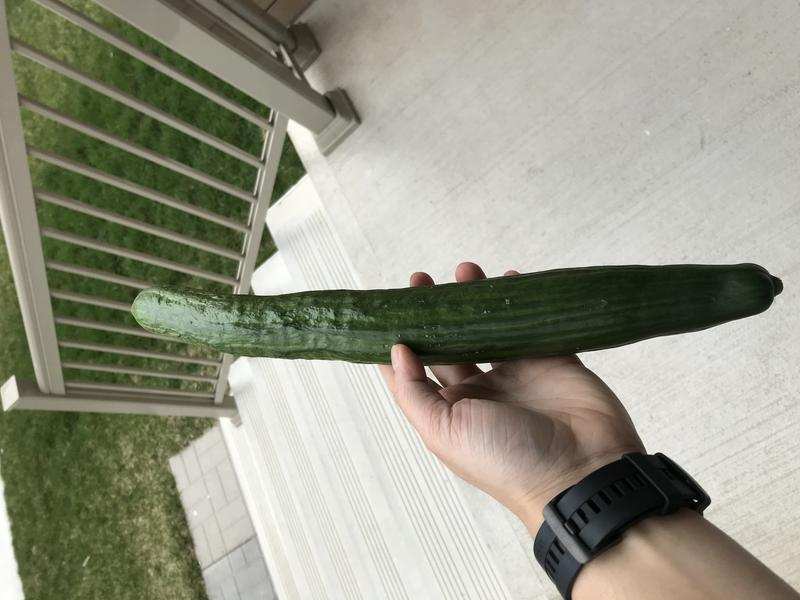cucumber: (119, 253, 795, 371)
